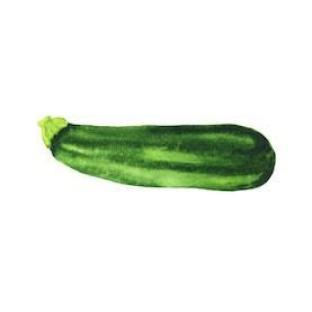Zucchini: (40, 117, 274, 190)
